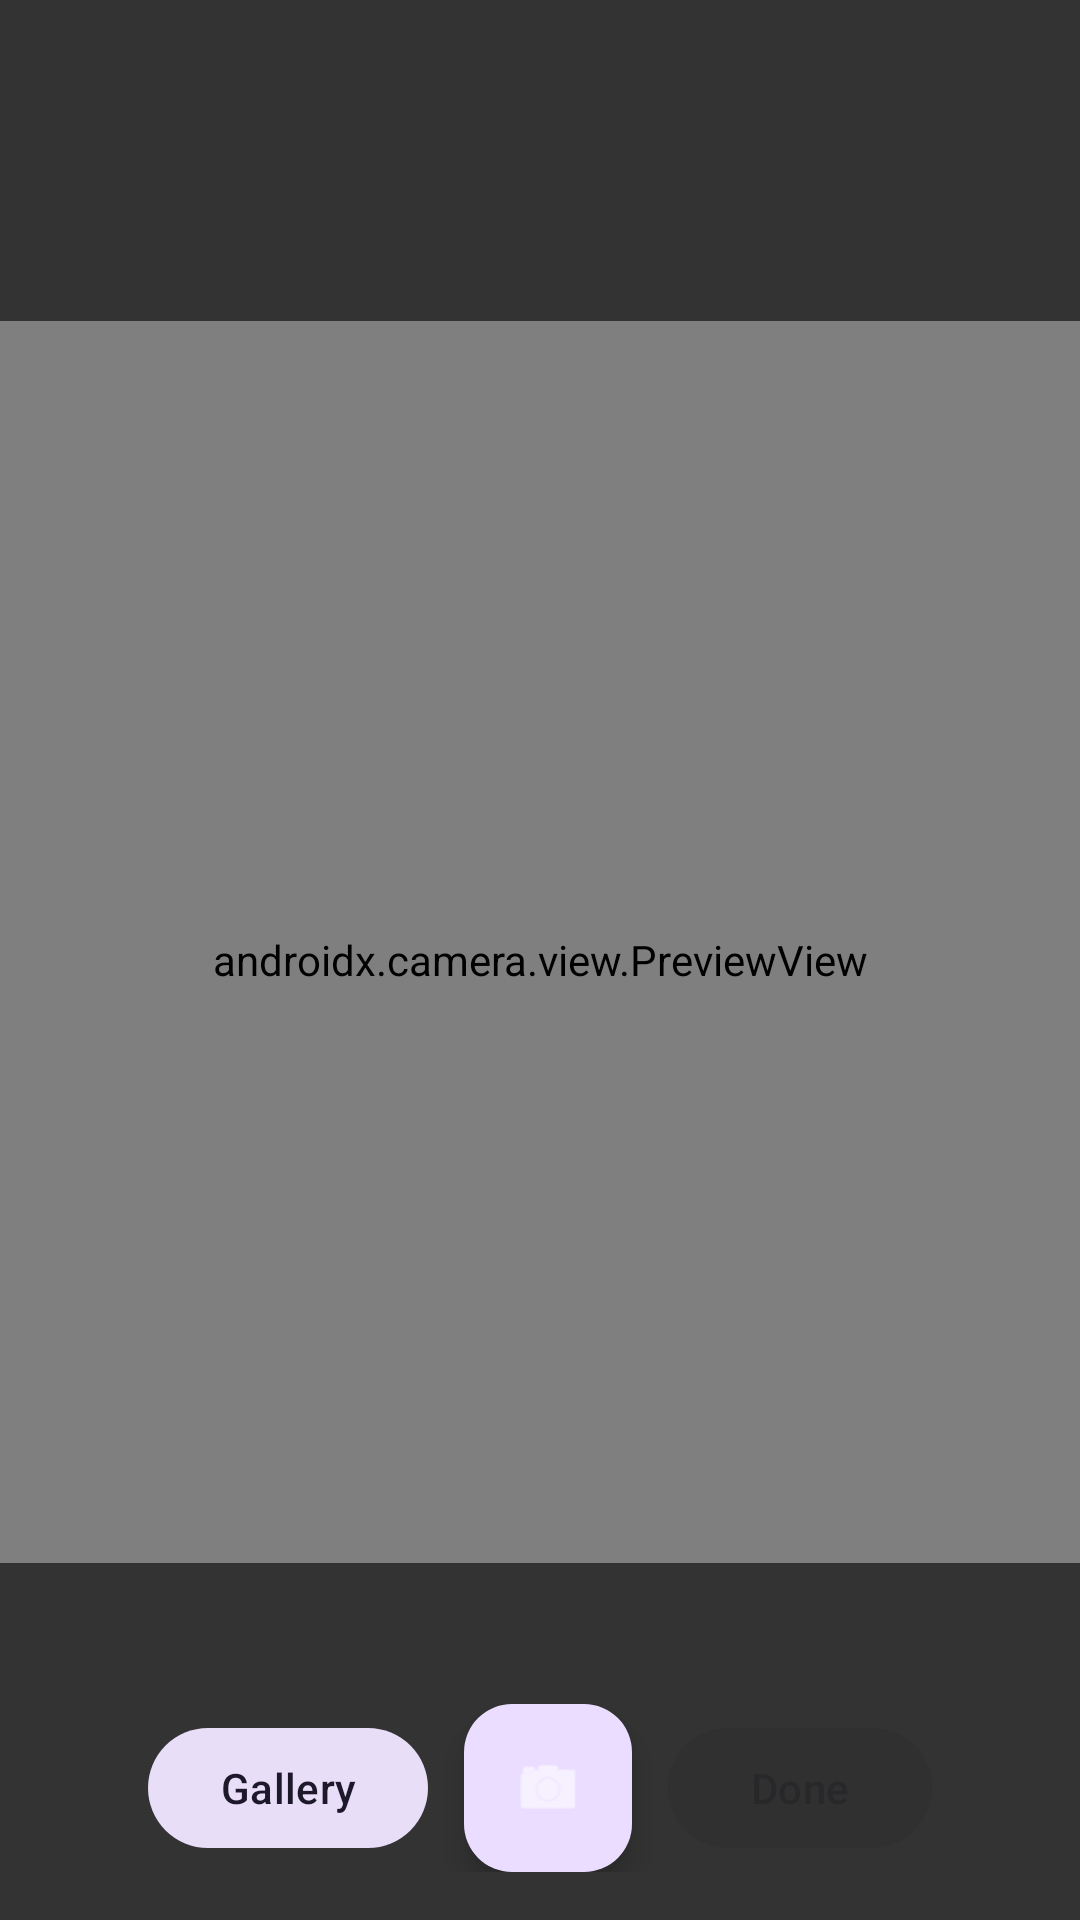

Locate icon controls on the screen. Image size 1080×1920, boxes as (x1, y1, x2, y2).
Capture: (464, 1704, 632, 1872)
